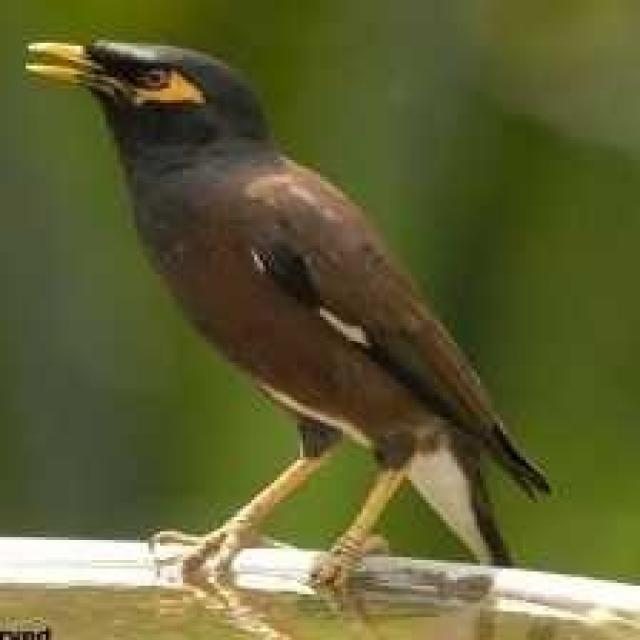bird: (21, 26, 570, 614)
